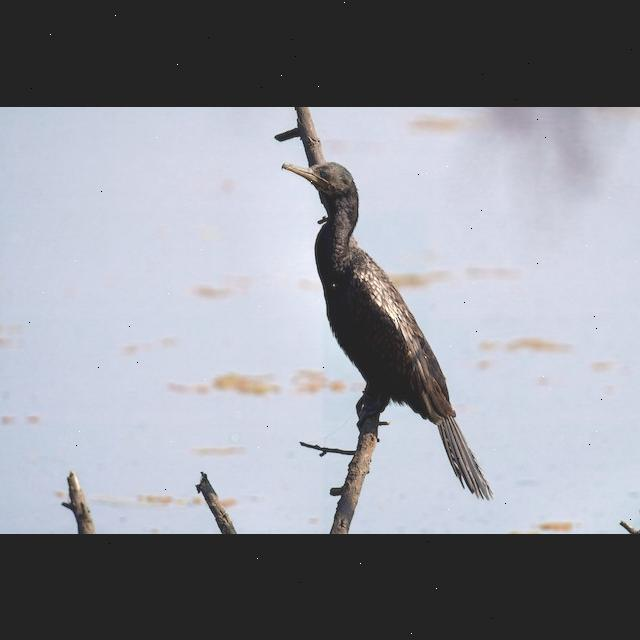cormorant: (284, 160, 486, 496)
